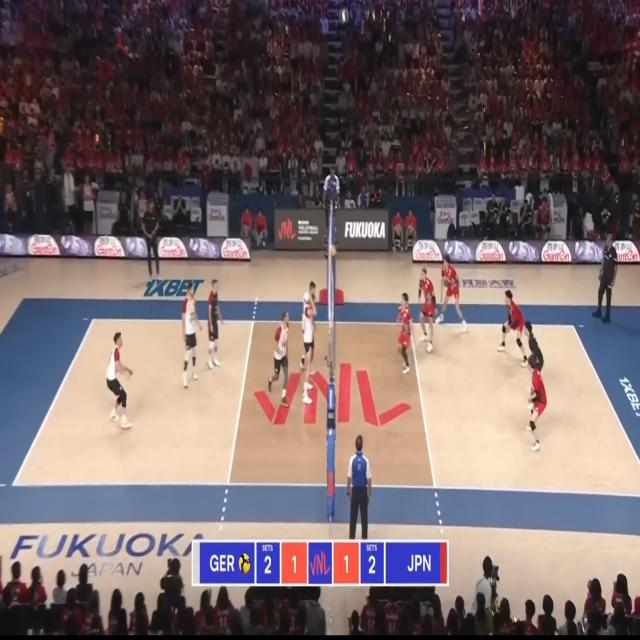ball: (330, 246, 336, 256)
